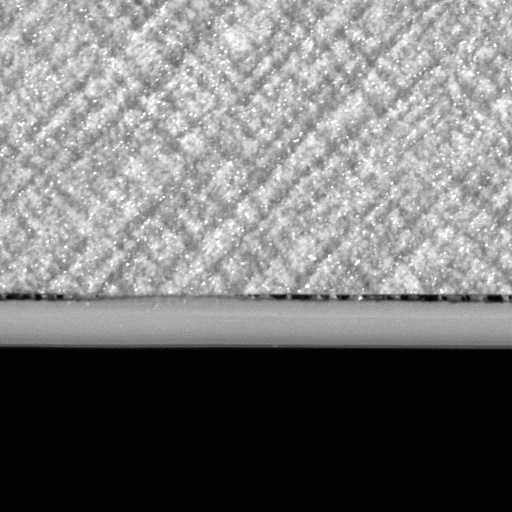jiaofeng: (249, 287, 511, 316), (0, 285, 105, 317)
